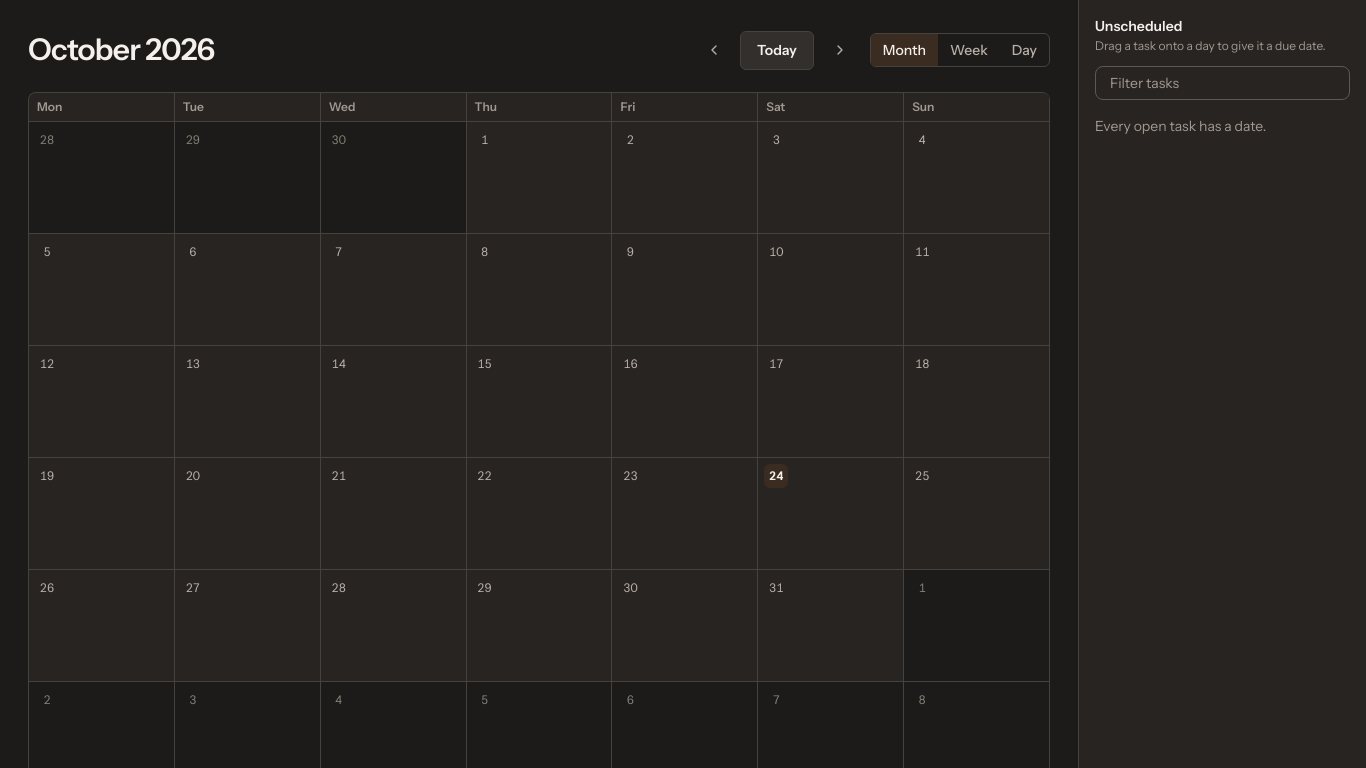
Test: CalendarView: month › moves between months and today
The image size is (1366, 768).
Expected: the heading "October 2026" is shown, [28,32,214,68]
Click the button named "Next month" at (840, 50), box [818,28,862,72]
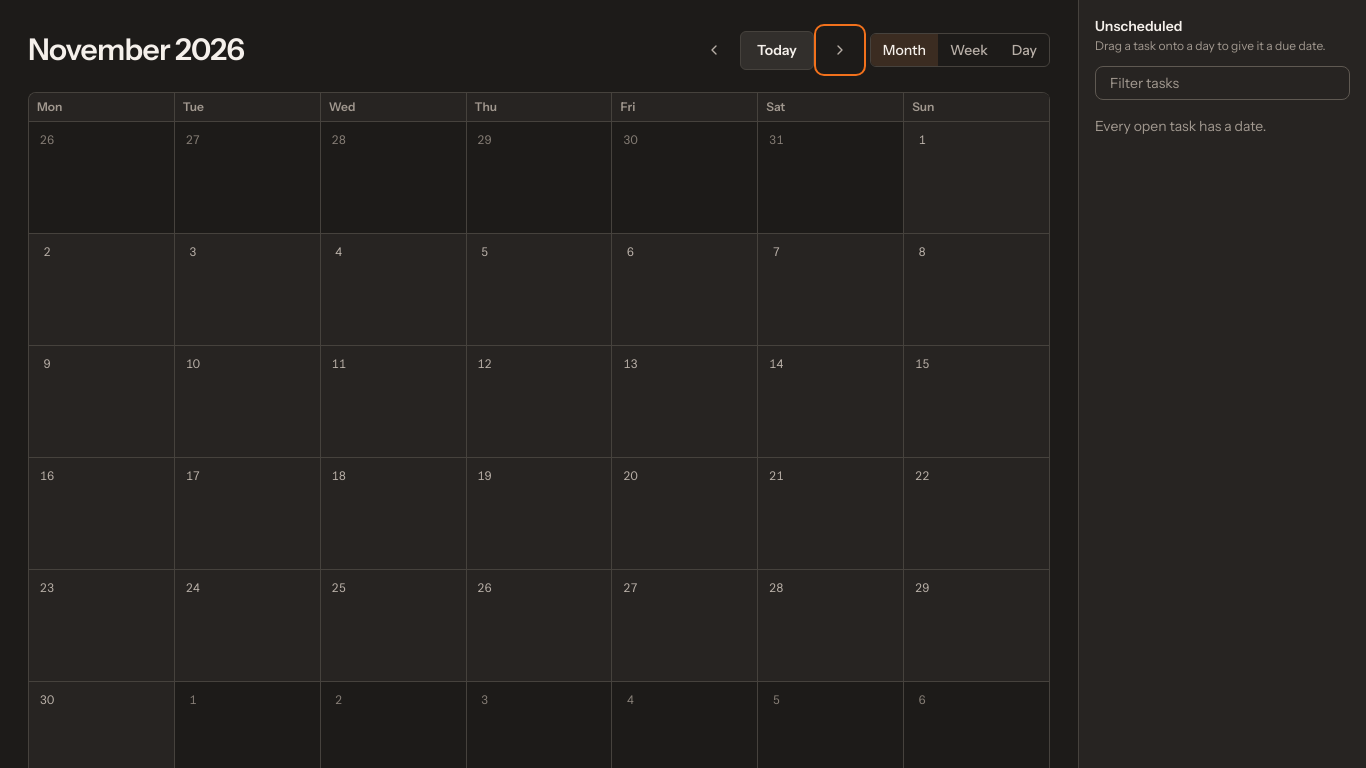
Expected: the heading "November 2026" is shown, [28,32,244,68]
Click the button named "Previous month" at (714, 50), box [692,28,736,72]
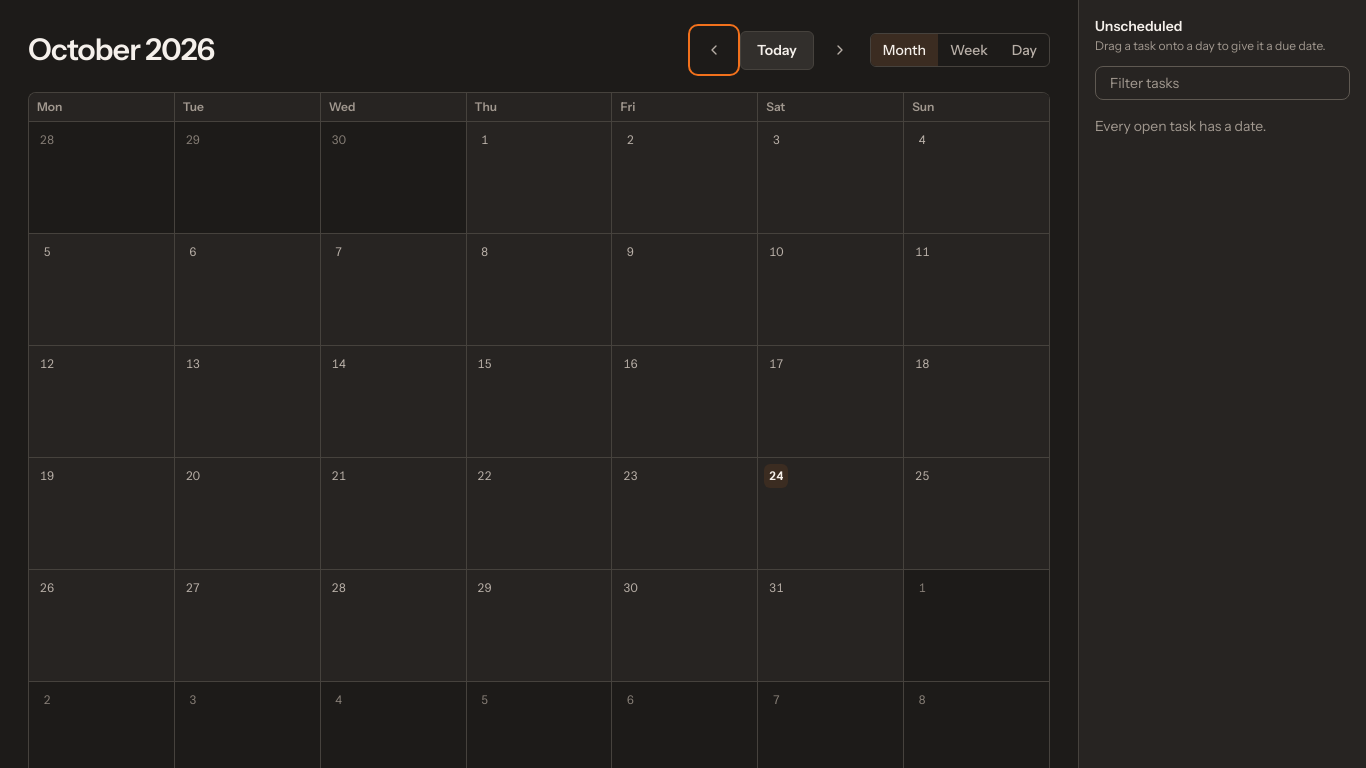
Click the button named "Previous month" at (714, 50), box [692,28,736,72]
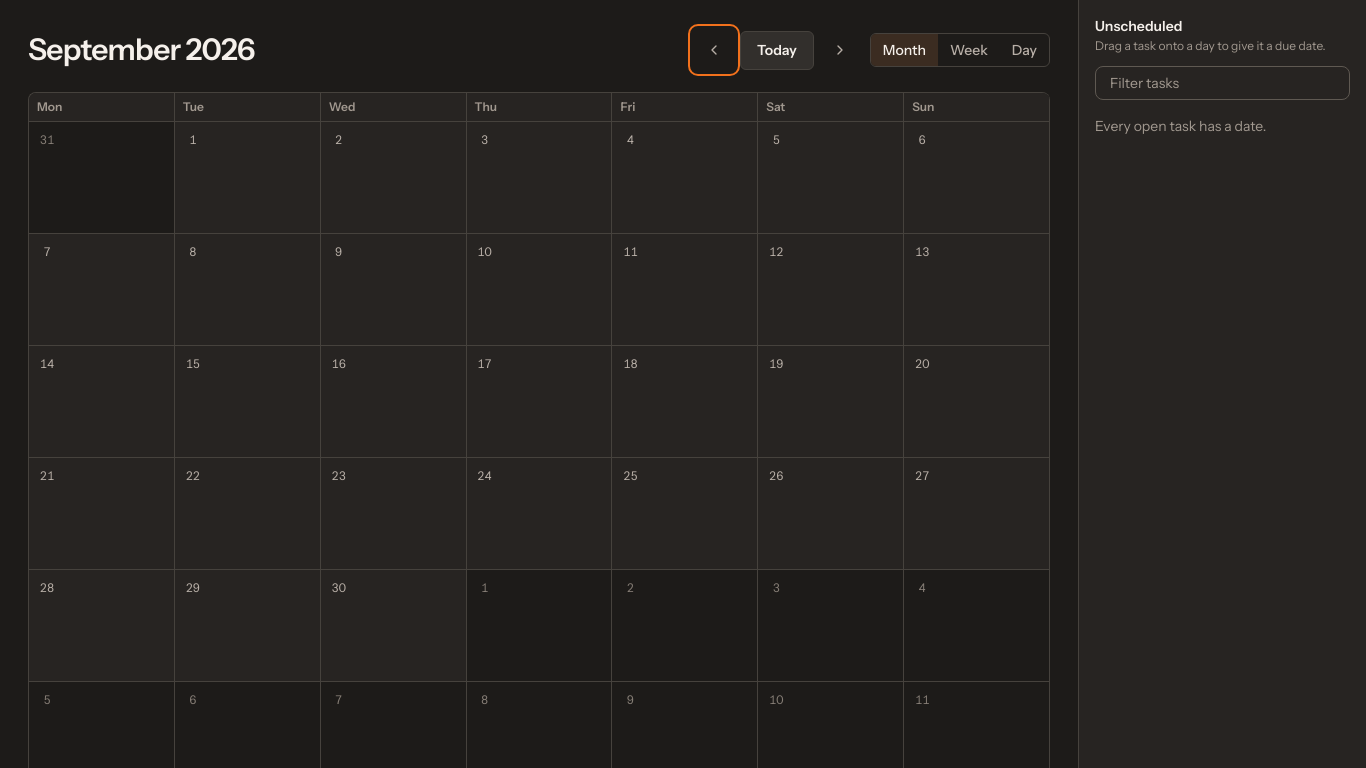
Expected: the heading "September 2026" is shown, [28,32,255,68]
Click the button "Today" at (777, 50), box [740,30,814,70]
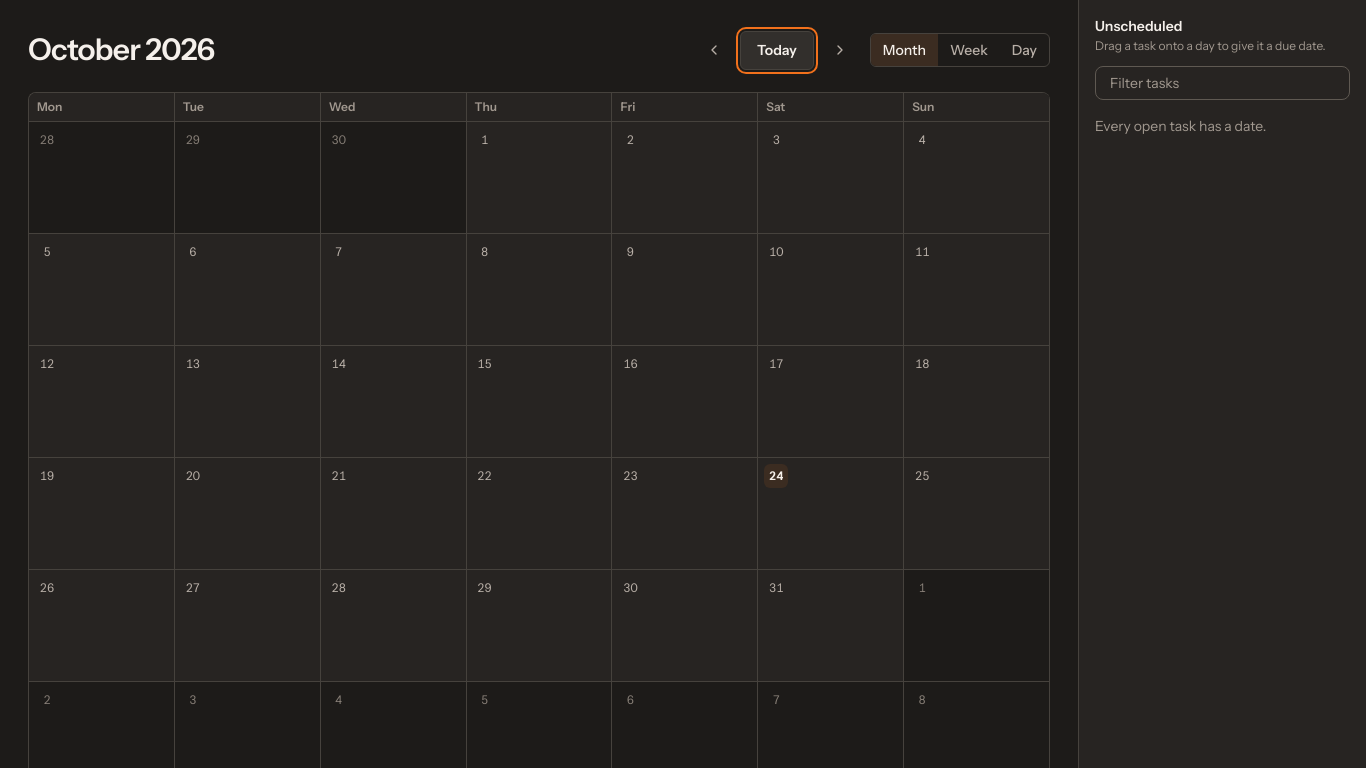
Expected: the heading "October 2026" is shown, [28,32,214,68]
